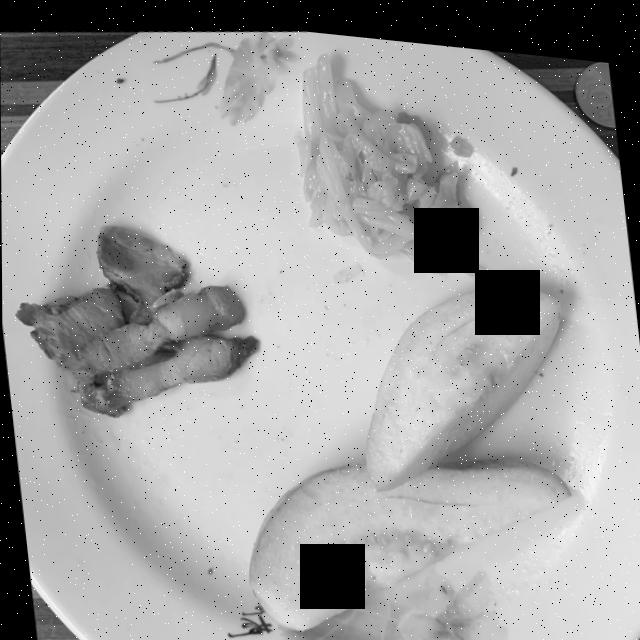cabbage: (296, 48, 477, 263)
coin: (574, 49, 615, 114)
grilled pork: (14, 223, 258, 413)
guava -sliced-: (247, 277, 568, 624)
